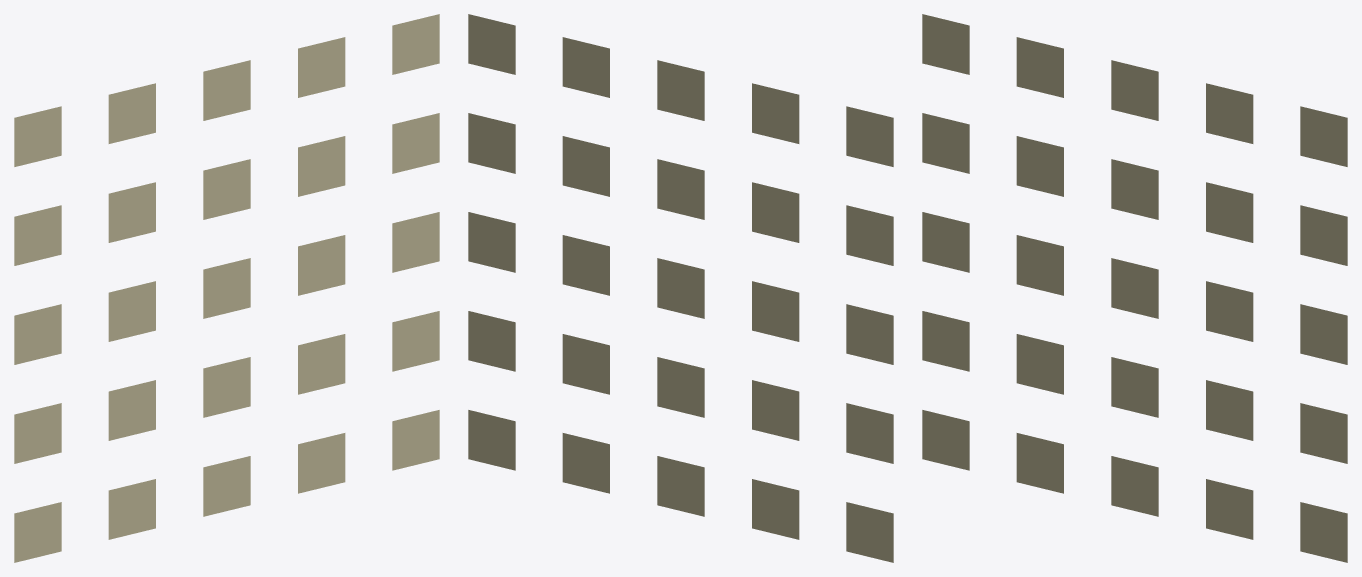
Rendered from distance1.obj.
3 views of the same model, side by side, from view 1: azimuth 30°, elevation 25°; view 2: azimuth 150°, elevation 25°; view 3: azimuth 330°, elevation 25° (orthographic).
Parts seen in each view (by area): view 1: Plane; view 2: Plane; view 3: Plane.
Part boxes in pixels (<box>): Plane: <box>14,14,439,562</box>; Plane: <box>468,14,893,562</box>; Plane: <box>922,14,1347,562</box>.
Bounding box in the file's own units: 18 × 18 × 0.
